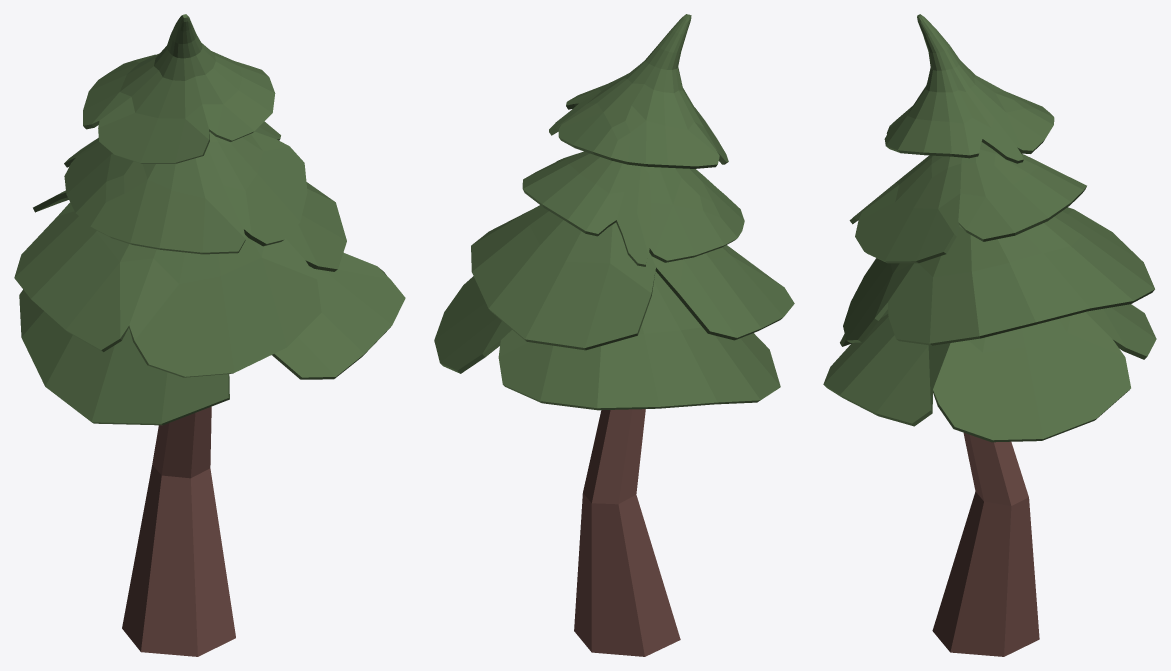
The model's file is pinetree_5.glb.
The picture shows the model from 3 angles, left to right: view 1: azimuth 30°, elevation 25°; view 2: azimuth 150°, elevation 25°; view 3: azimuth 270°, elevation 25°; orthographic projection. The views are drawn at different scales.
Parts seen in each view (by area): view 1: PineTree_5; view 2: PineTree_5; view 3: PineTree_5.
Boxes of the visible parts, x1,y1,x2,y2 form: PineTree_5: [14, 14, 405, 656]; PineTree_5: [434, 14, 794, 656]; PineTree_5: [823, 14, 1156, 656].
Bounding box in the file's own units: 3.53 × 6.47 × 3.22.
